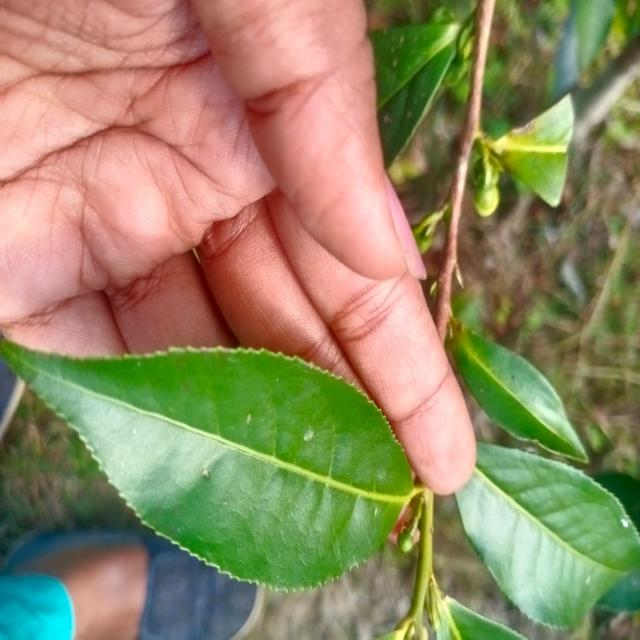Category D 7+ days, Not for Tea: (1, 313, 426, 616)
